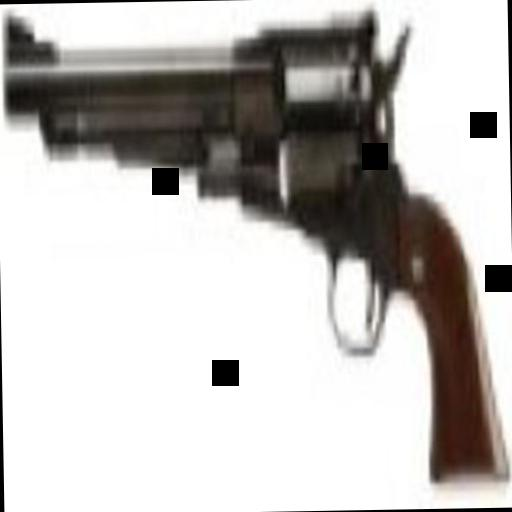Handgun: (1, 6, 505, 498)
